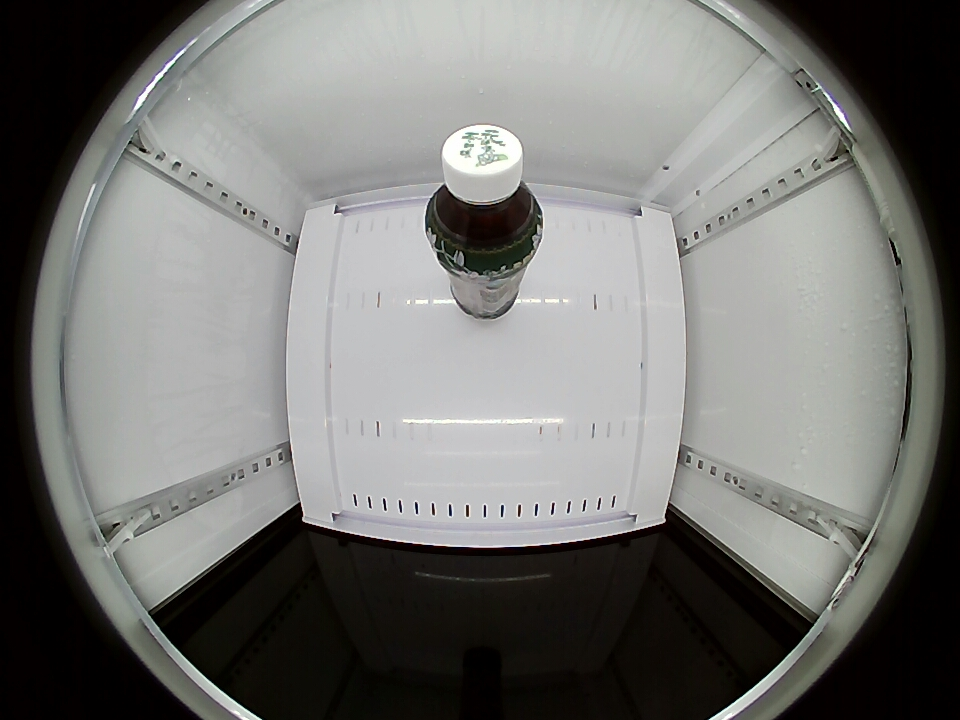moliqingcha: (424, 124, 545, 260)
